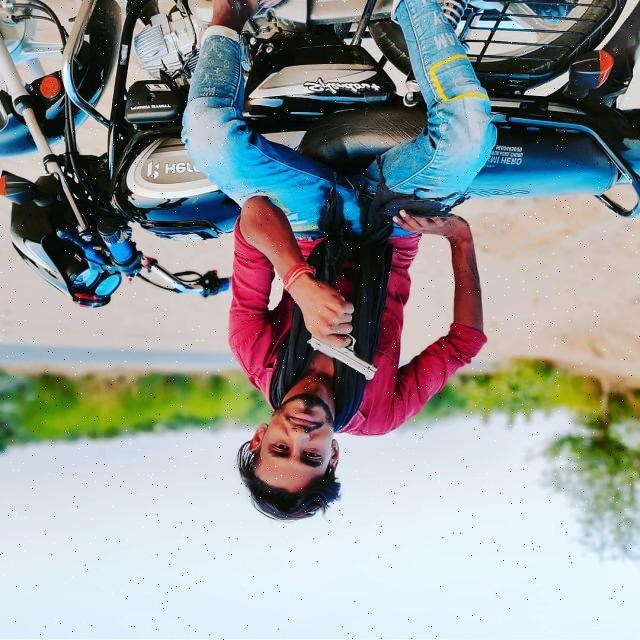gun: (299, 306, 388, 389)
